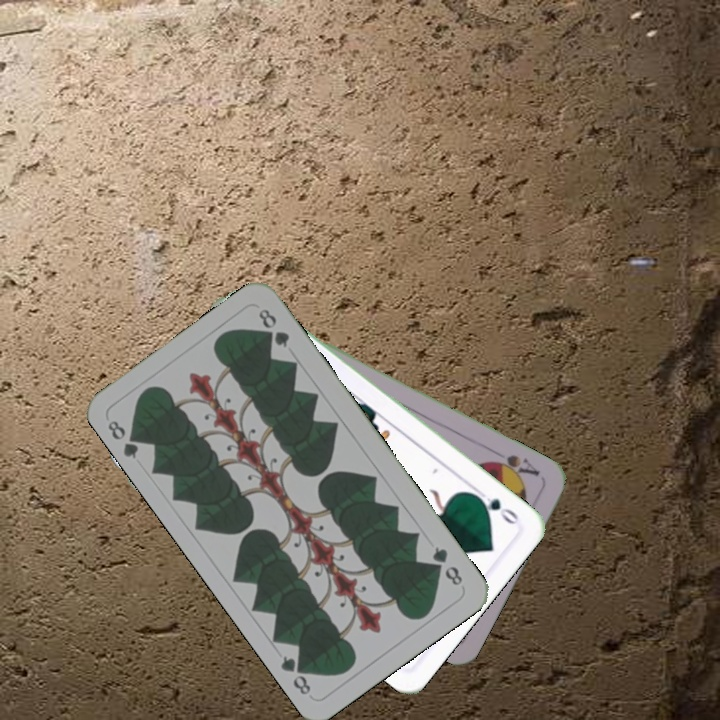G8: (103, 416, 146, 462), (428, 542, 466, 589)
GO: (469, 485, 522, 527)
SA: (485, 450, 543, 482)
